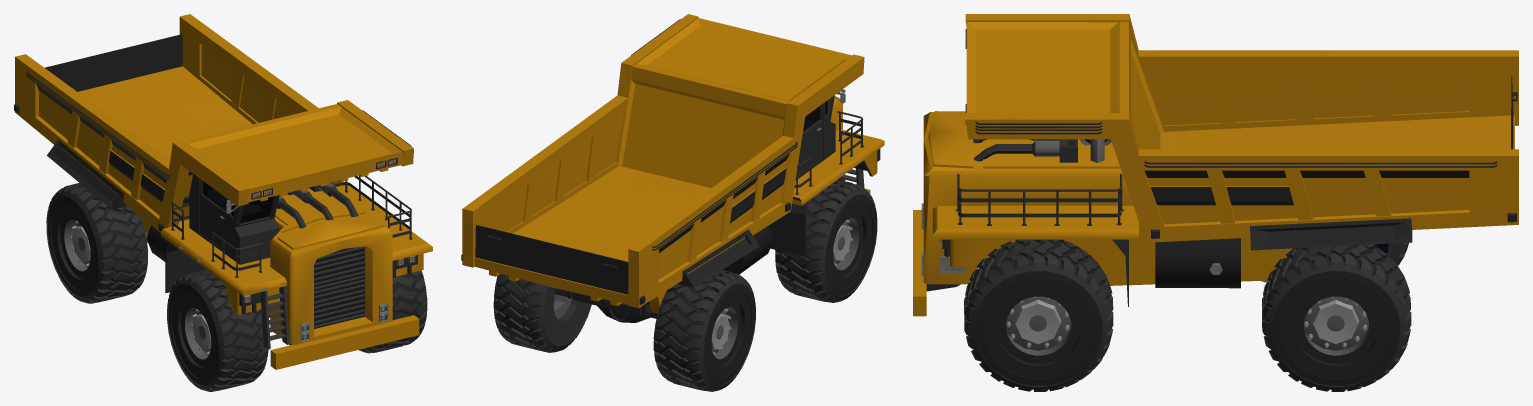
Rendered from Truck_1.FBX.
3 views of the same model, side by side, from view 1: azimuth 30°, elevation 25°; view 2: azimuth 150°, elevation 25°; view 3: azimuth 270°, elevation 25° (orthographic). The views are drawn at different scales.
Parts seen in each view (by area): view 1: Back, Body, Wheel_BR, Wheel_FR, Wheel_FL; view 2: Back, Wheel_BR, Body, Wheel_FR, Wheel_BL; view 3: Back, Body, Wheel_FL, Wheel_BL.
Boxes of the visible parts, x1,y1,x2,y2 form: Back: (14, 14, 413, 232); Body: (141, 174, 432, 369); Wheel_BR: (46, 183, 147, 303); Wheel_FR: (167, 269, 268, 391); Wheel_FL: (358, 270, 427, 353); Back: (461, 14, 864, 307); Wheel_BR: (653, 270, 755, 391); Body: (555, 89, 884, 322); Wheel_FR: (775, 179, 877, 302); Wheel_BL: (493, 274, 591, 352); Back: (965, 14, 1518, 250); Body: (913, 111, 1388, 316); Wheel_FL: (964, 239, 1113, 391); Wheel_BL: (1262, 244, 1411, 391).
Bounding box in the file's own units: 118 × 117 × 241.
Materials: 4 (3 with a texture image).
